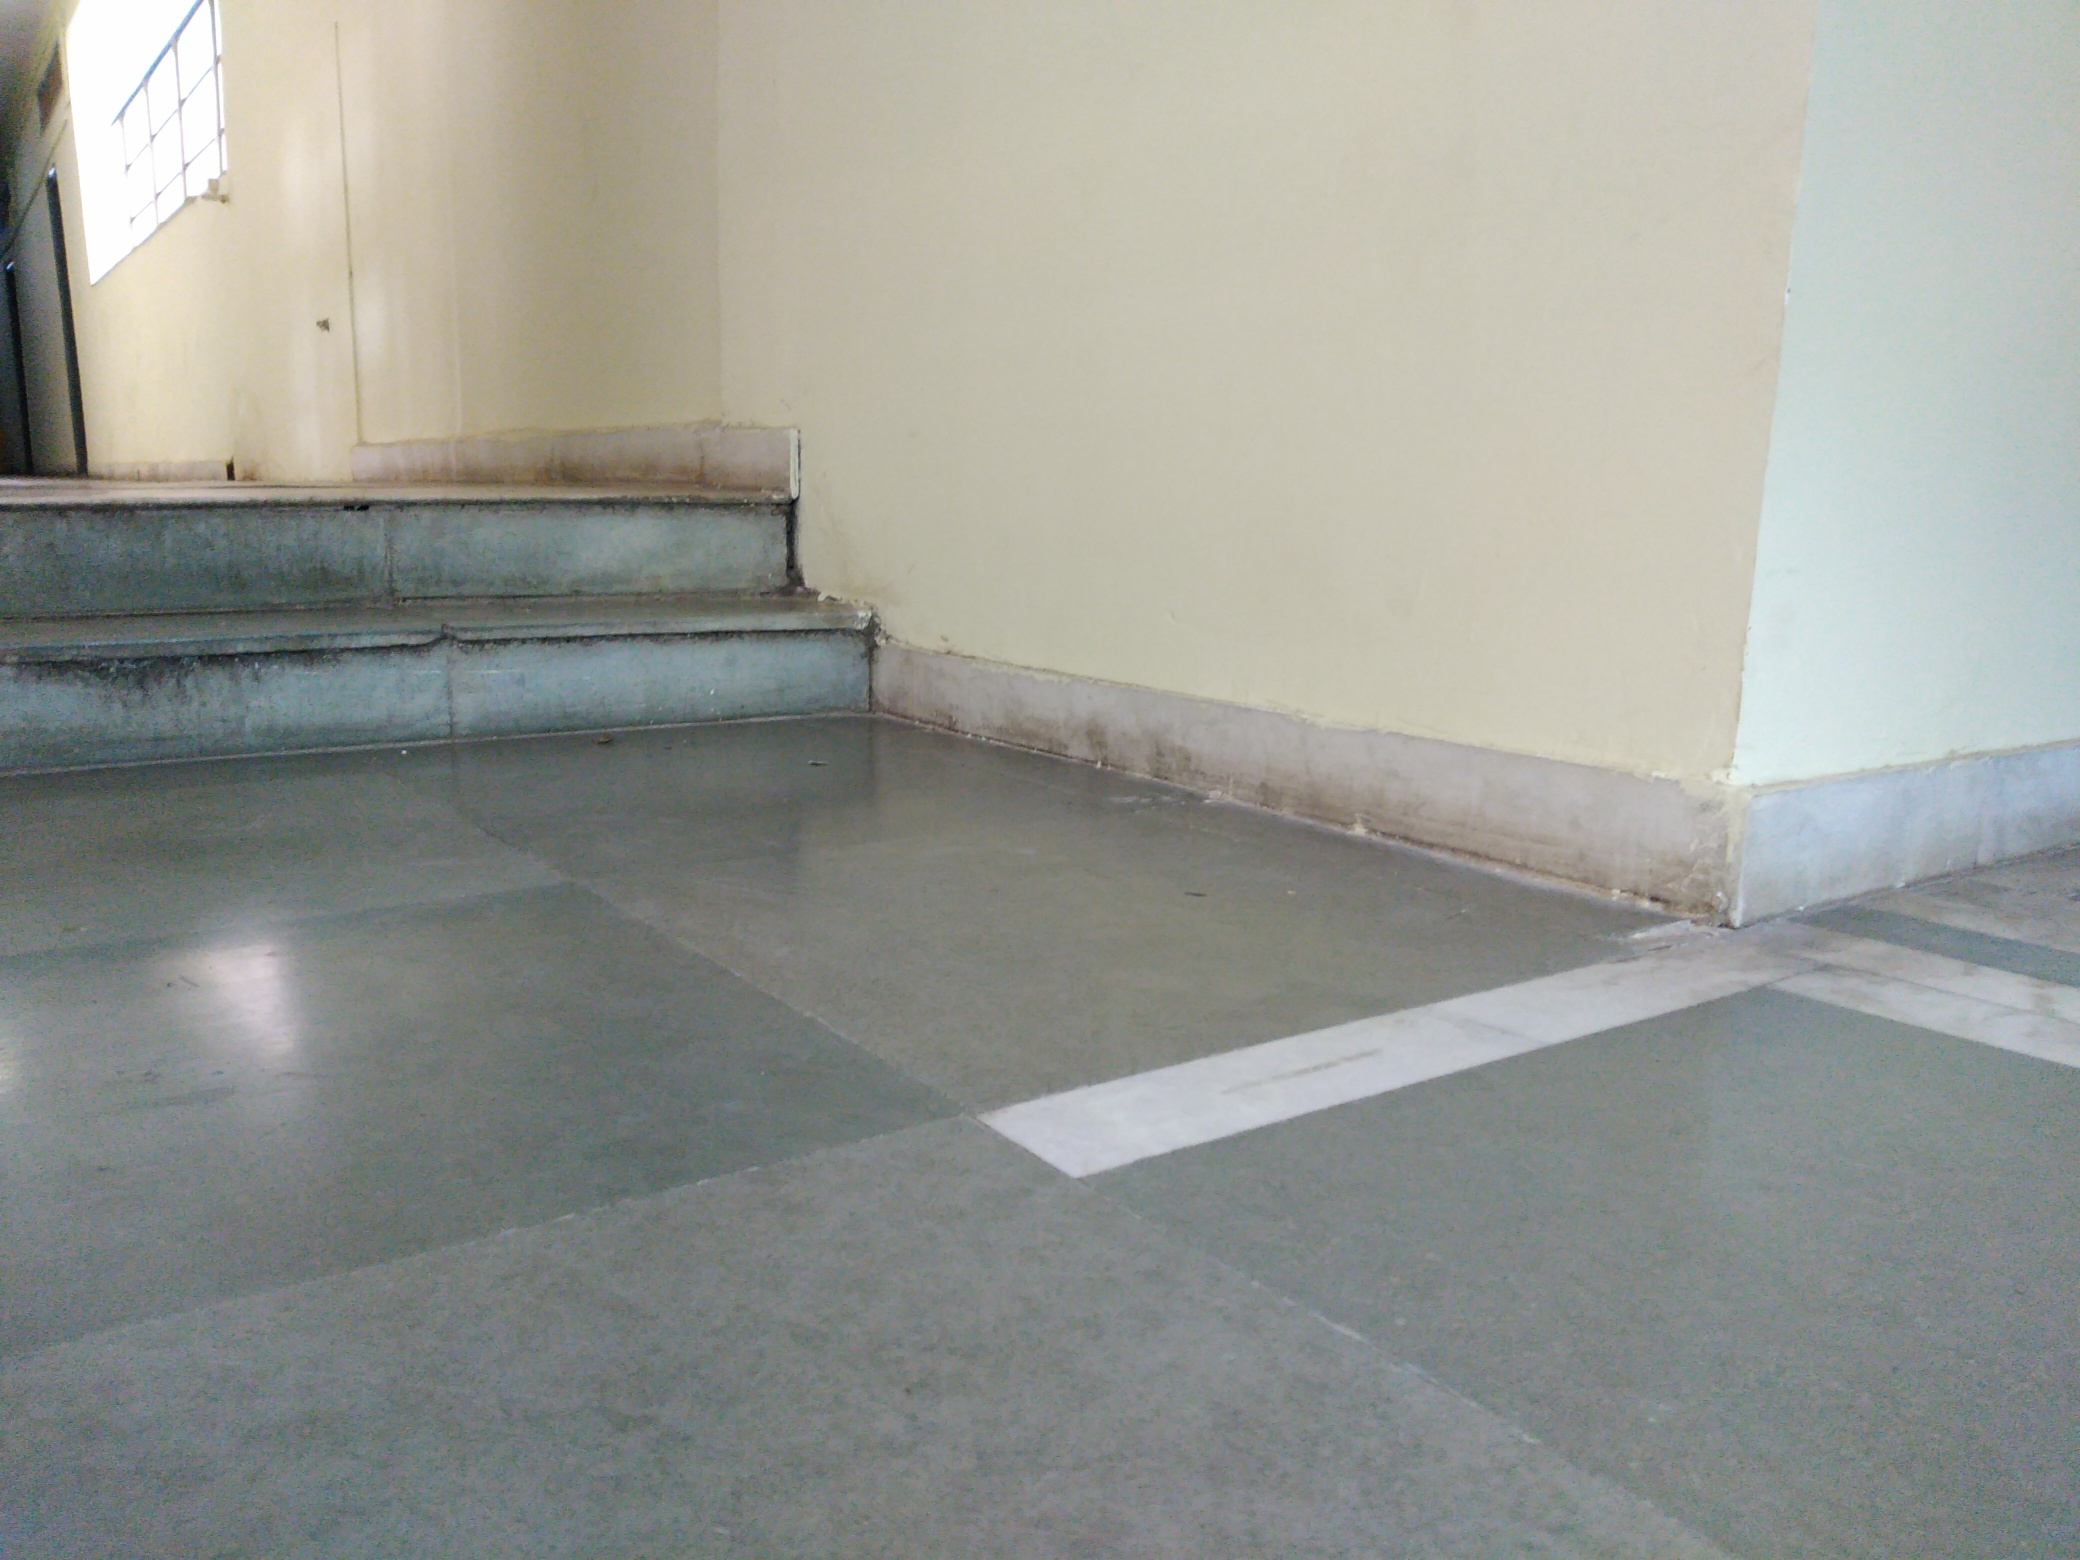stairs_up: (2, 482, 871, 711)
